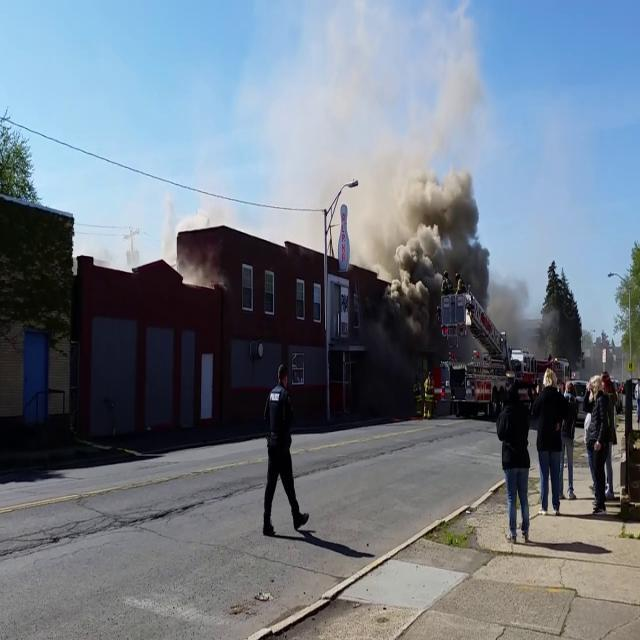Smoke: (342, 89, 502, 311)
